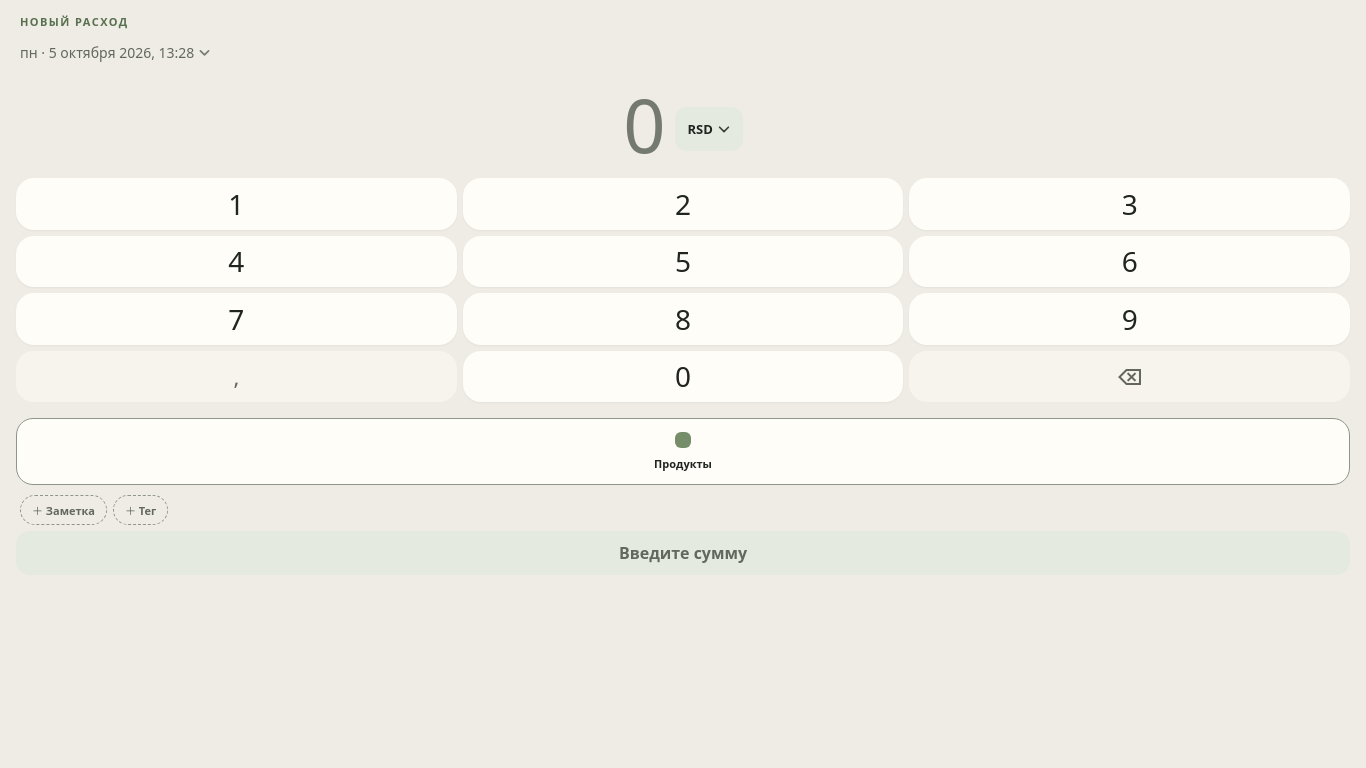
Test: expense editing and saving › locks conflicting controls while a new expense is being saved
Expected: the button "Введите сумму" is shown, x1=16 y1=531 x2=1350 y2=575
Click the button "1".
click(236, 204)  # box x1=16 y1=178 x2=457 y2=230
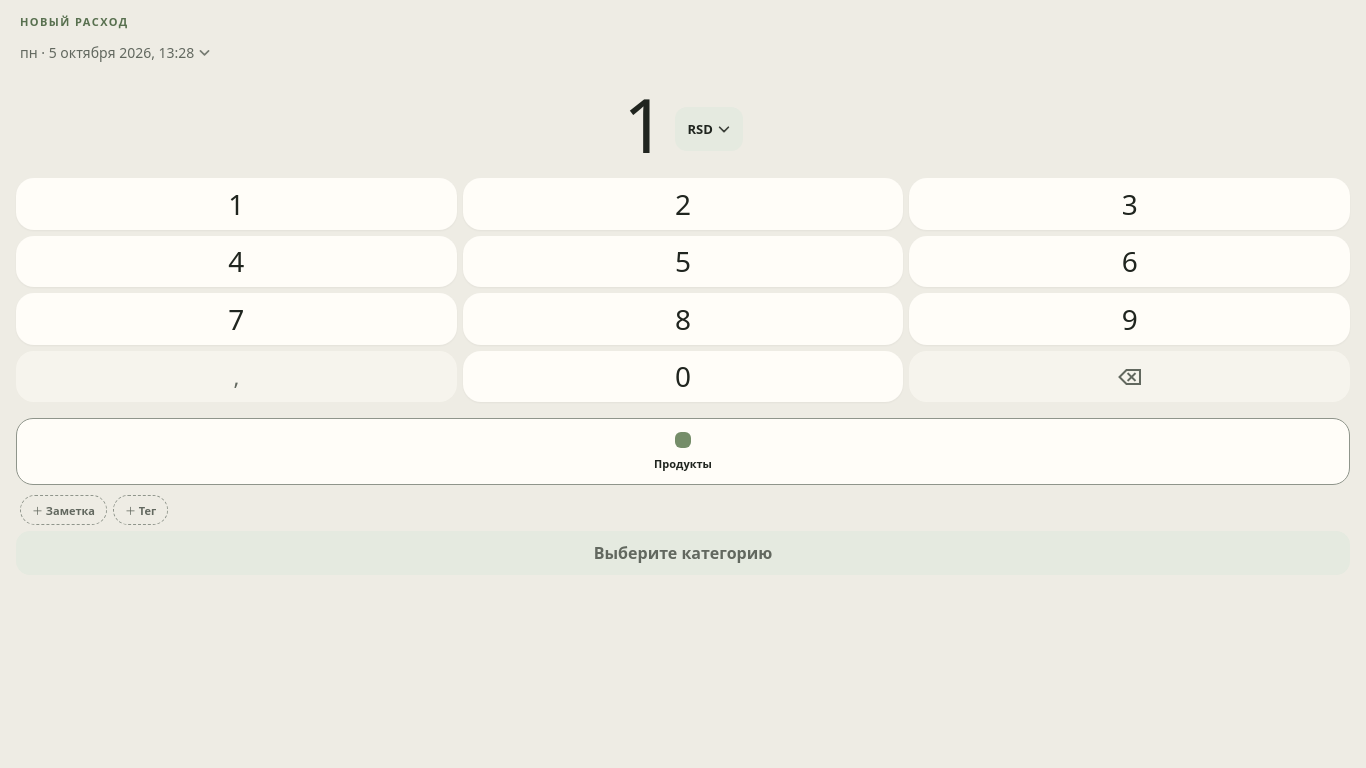
Expected: the button "Выберите категорию" is shown, x1=16 y1=531 x2=1350 y2=575
Click the button "Продукты".
click(683, 464)  # box x1=16 y1=418 x2=1350 y2=485
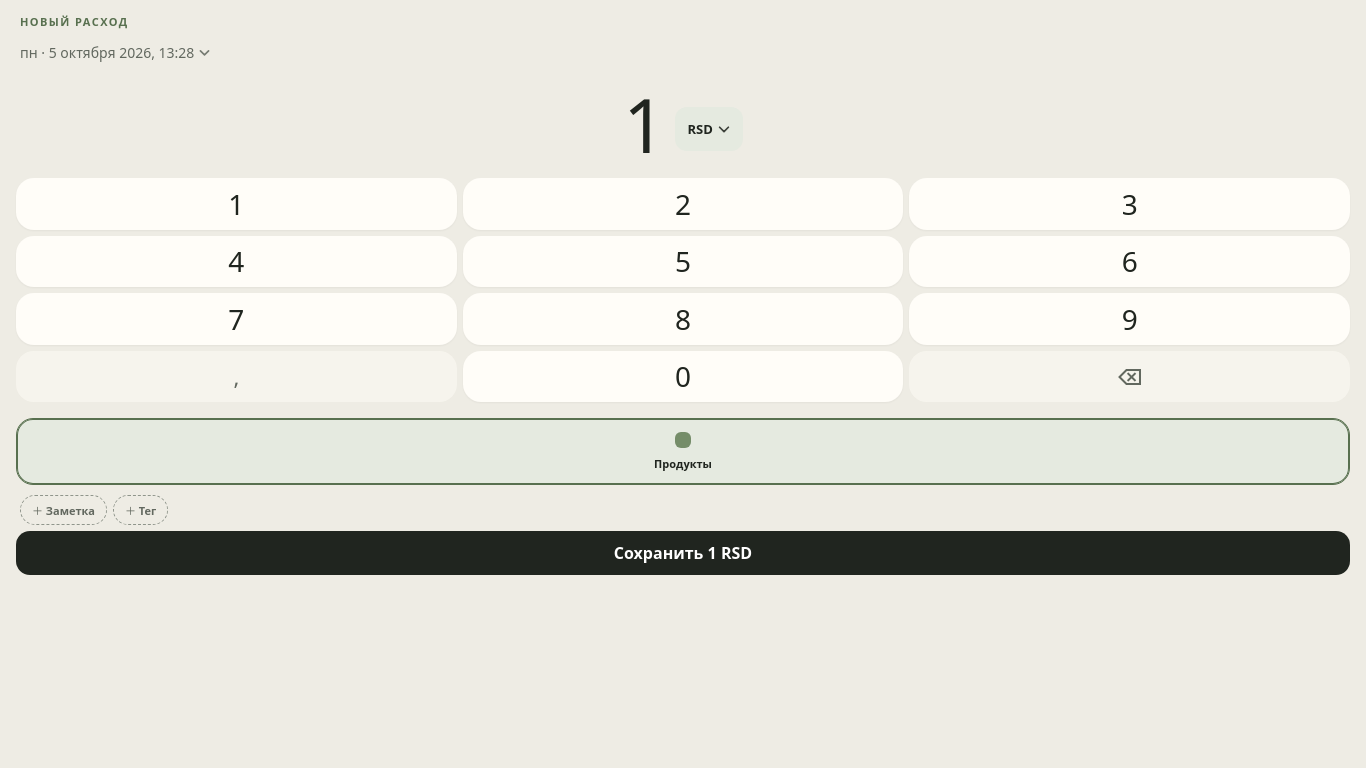
Click the button "Сохранить 1 RSD".
click(683, 553)  # box x1=16 y1=531 x2=1350 y2=575
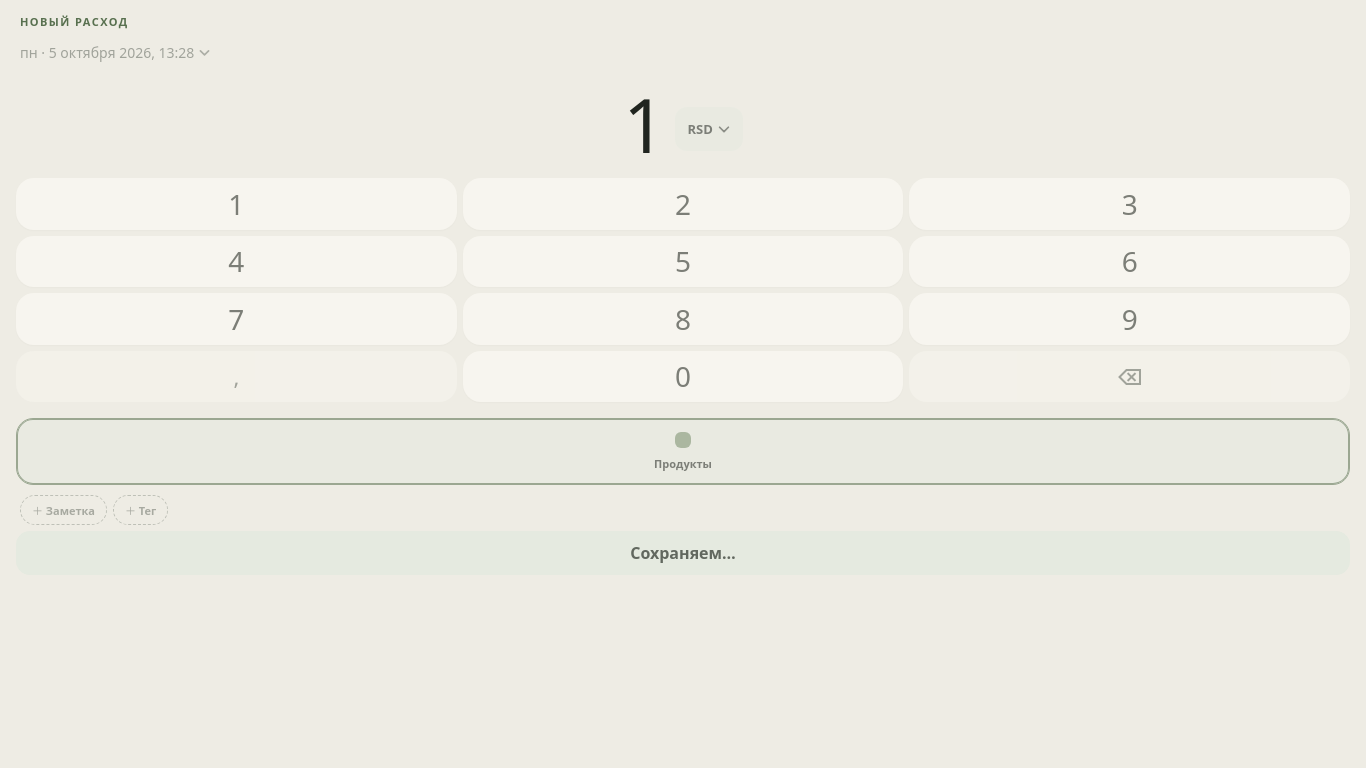
Expected: the button "1" is disabled, x1=16 y1=178 x2=457 y2=230
Expected: the button "RSD" is disabled, x1=676 y1=107 x2=743 y2=151
Expected: the button with aria-label "Добавить заметку" is disabled, x1=20 y1=495 x2=107 y2=525
